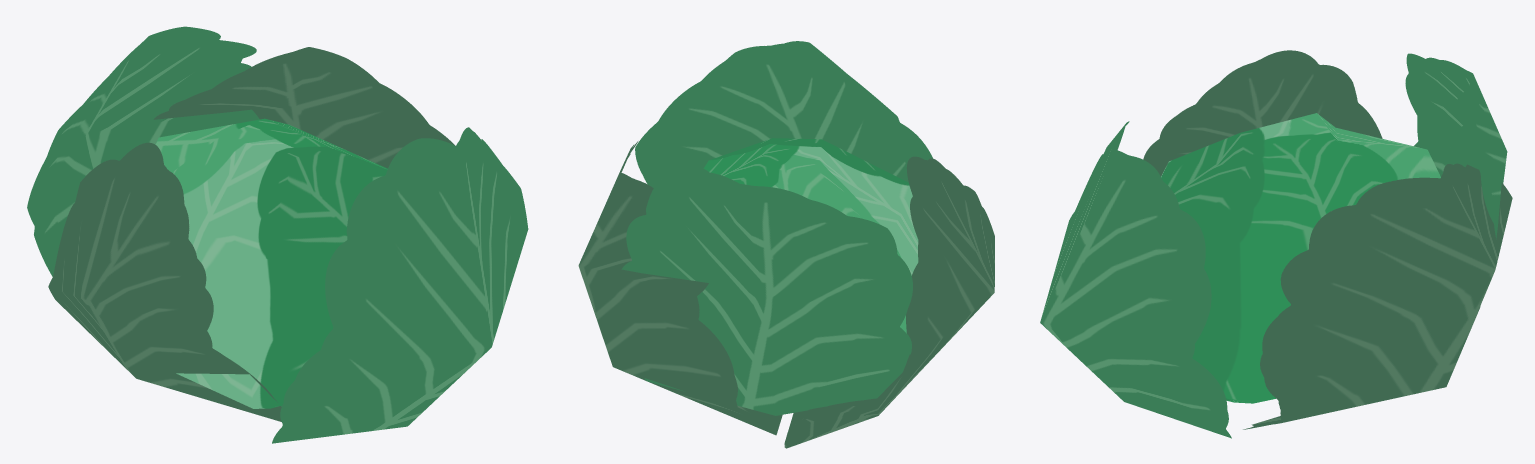
Rendered from PT_Cabbage_02.fbx.
3 views of the same model, side by side, from view 1: azimuth 30°, elevation 25°; view 2: azimuth 150°, elevation 25°; view 3: azimuth 270°, elevation 25° (orthographic). The views are drawn at different scales.
Visible parts, largest first — view 1: PT_Cabbage_02_LOD0; view 2: PT_Cabbage_02_LOD0; view 3: PT_Cabbage_02_LOD0.
Boxes of the visible parts, x1,y1,x2,y2 form: PT_Cabbage_02_LOD0: (27, 26, 528, 443); PT_Cabbage_02_LOD0: (578, 41, 994, 448); PT_Cabbage_02_LOD0: (1040, 50, 1512, 438).
Size of what is drawn, in the model's own units: 41.46 by 31.62 by 39.38.
